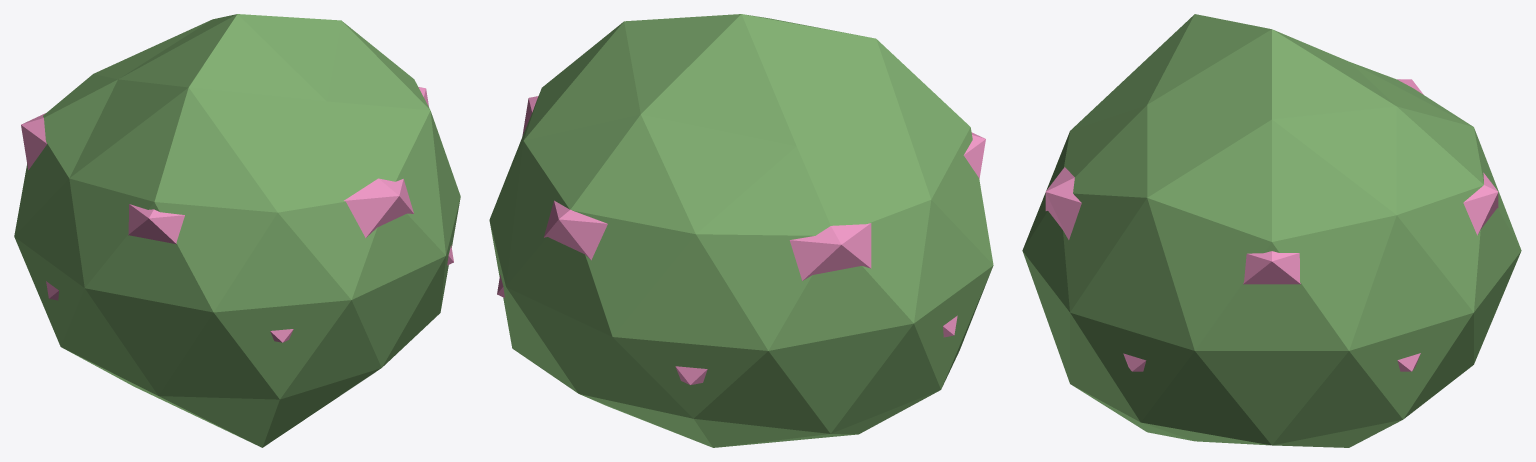
File: azalea.glb
The picture shows the model from 3 angles, left to right: view 1: azimuth 30°, elevation 25°; view 2: azimuth 150°, elevation 25°; view 3: azimuth 270°, elevation 25°; orthographic projection. The views are drawn at different scales.
Parts seen in each view (by area): view 1: Azalea; view 2: Azalea; view 3: Azalea.
Part boxes in pixels (x1=…): Azalea: x1=14, y1=14, x2=460, y2=447; Azalea: x1=489, y1=14, x2=993, y2=447; Azalea: x1=1022, y1=14, x2=1521, y2=447.
Size of the model in its own units: 0.8586 by 0.8361 by 0.9.
